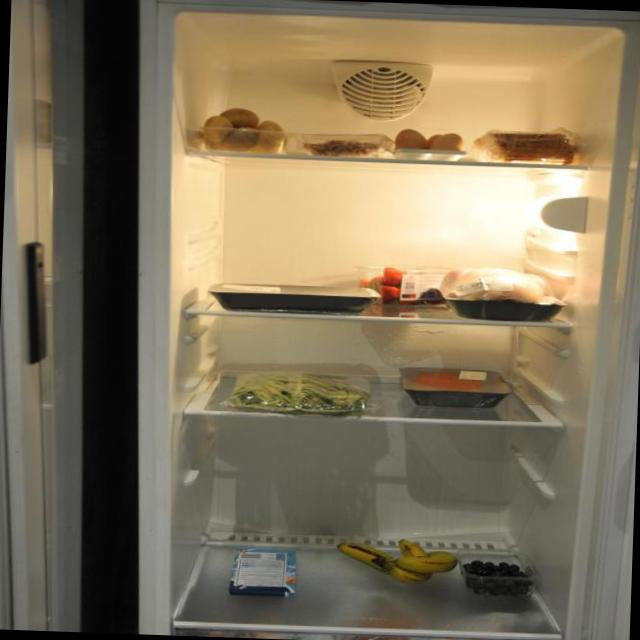Carne pollo: (445, 266, 560, 318)
Carne vacuno: (403, 366, 504, 395)
Gambas/Langostinos: (298, 132, 392, 160)
Huevos: (394, 128, 468, 156)
Patata: (195, 104, 288, 152)
Plátano: (330, 536, 460, 588)
blueberries: (459, 554, 545, 599)
bread: (484, 127, 580, 164)
chocolate: (229, 543, 300, 600)
green_beans: (230, 366, 374, 418)
strawberries: (361, 266, 438, 309)
